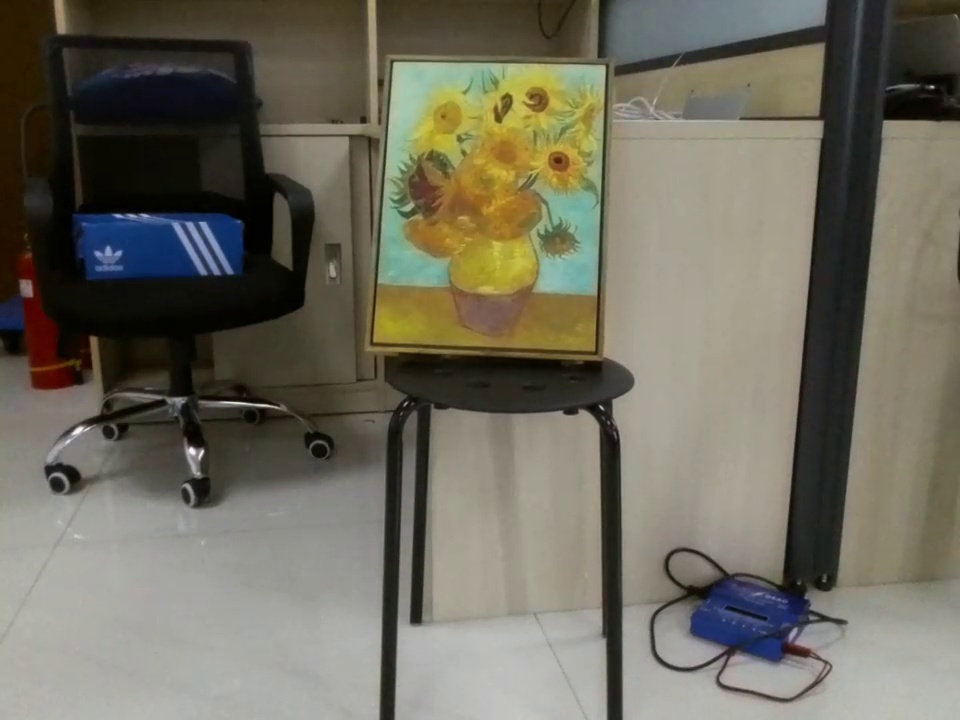painting: (364, 55, 623, 365)
